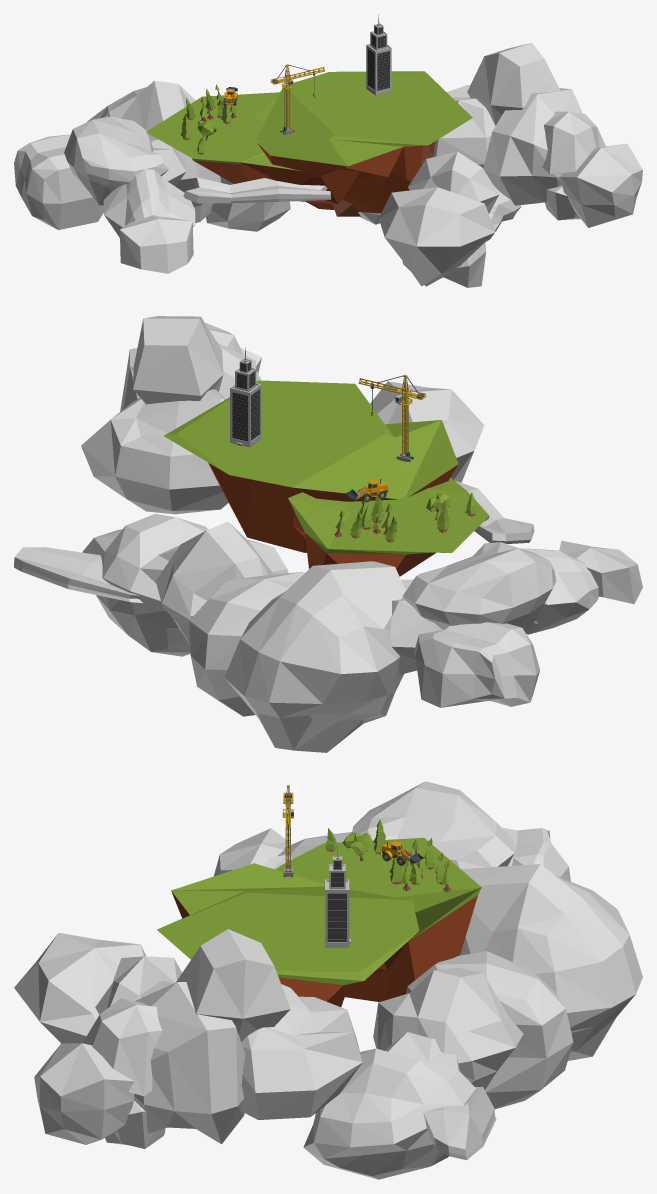
File: island_3.fbx
The picture shows the model from 3 angles, top to bottom: view 1: azimuth 30°, elevation 25°; view 2: azimuth 150°, elevation 25°; view 3: azimuth 270°, elevation 25°; orthographic projection. The views are drawn at different scales.
Visible parts, largest first — view 1: Eco_City_Lighting_1_Balance_polySurface106, Cloud_025, Cloud_026, Cloud_027, Cloud_024, Cloud_030, SC_Bld_03_Bright, ton; view 2: Cloud_024, Eco_City_Lighting_1_Balance_polySurface106, Cloud_026, Cloud_025, Cloud_027, Cloud_031, SC_Bld_03_Bright, Cloud_030, ton; view 3: Cloud_024, Cloud_025, Eco_City_Lighting_1_Balance_polySurface106, Cloud_026, Cloud_027, Cloud_031, SC_Bld_03_Bright, ton, Durty_City_Tractor_1.
Part boxes in pixels (x1=…): Eco_City_Lighting_1_Balance_polySurface106: x1=146, y1=71, x2=472, y2=216; Cloud_025: x1=433, y1=43, x2=642, y2=227; Cloud_026: x1=14, y1=116, x2=195, y2=273; Cloud_027: x1=378, y1=151, x2=521, y2=287; Cloud_024: x1=87, y1=80, x2=380, y2=231; Cloud_030: x1=183, y1=177, x2=331, y2=203; SC_Bld_03_Bright: x1=366, y1=14, x2=391, y2=95; ton: x1=270, y1=64, x2=324, y2=134; Cloud_024: x1=82, y1=513, x2=405, y2=752; Eco_City_Lighting_1_Balance_polySurface106: x1=164, y1=380, x2=489, y2=576; Cloud_026: x1=390, y1=540, x2=642, y2=707; Cloud_025: x1=81, y1=316, x2=261, y2=514; Cloud_027: x1=359, y1=381, x2=484, y2=482; Cloud_031: x1=14, y1=547, x2=142, y2=603; SC_Bld_03_Bright: x1=230, y1=347, x2=261, y2=447; Cloud_030: x1=455, y1=481, x2=534, y2=543; ton: x1=358, y1=374, x2=426, y2=462; Cloud_024: x1=303, y1=864, x2=642, y2=1179; Cloud_025: x1=34, y1=929, x2=362, y2=1148; Eco_City_Lighting_1_Balance_polySurface106: x1=157, y1=837, x2=481, y2=1006; Cloud_026: x1=214, y1=781, x2=570, y2=881; Cloud_027: x1=14, y1=933, x2=181, y2=1043; Cloud_031: x1=423, y1=1086, x2=496, y2=1160; SC_Bld_03_Bright: x1=325, y1=843, x2=350, y2=947; ton: x1=282, y1=785, x2=293, y2=877; Durty_City_Tractor_1: x1=380, y1=841, x2=423, y2=865.
Size of the model in its own units: 637 by 317 by 586.
Materials: 4 (3 with a texture image).
